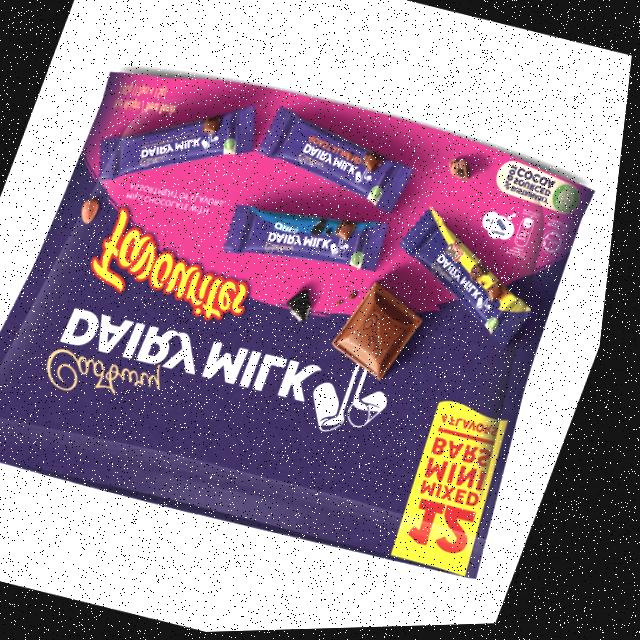cadbury: (382, 201, 572, 359), (89, 66, 276, 216), (209, 176, 402, 296), (250, 107, 428, 218)
